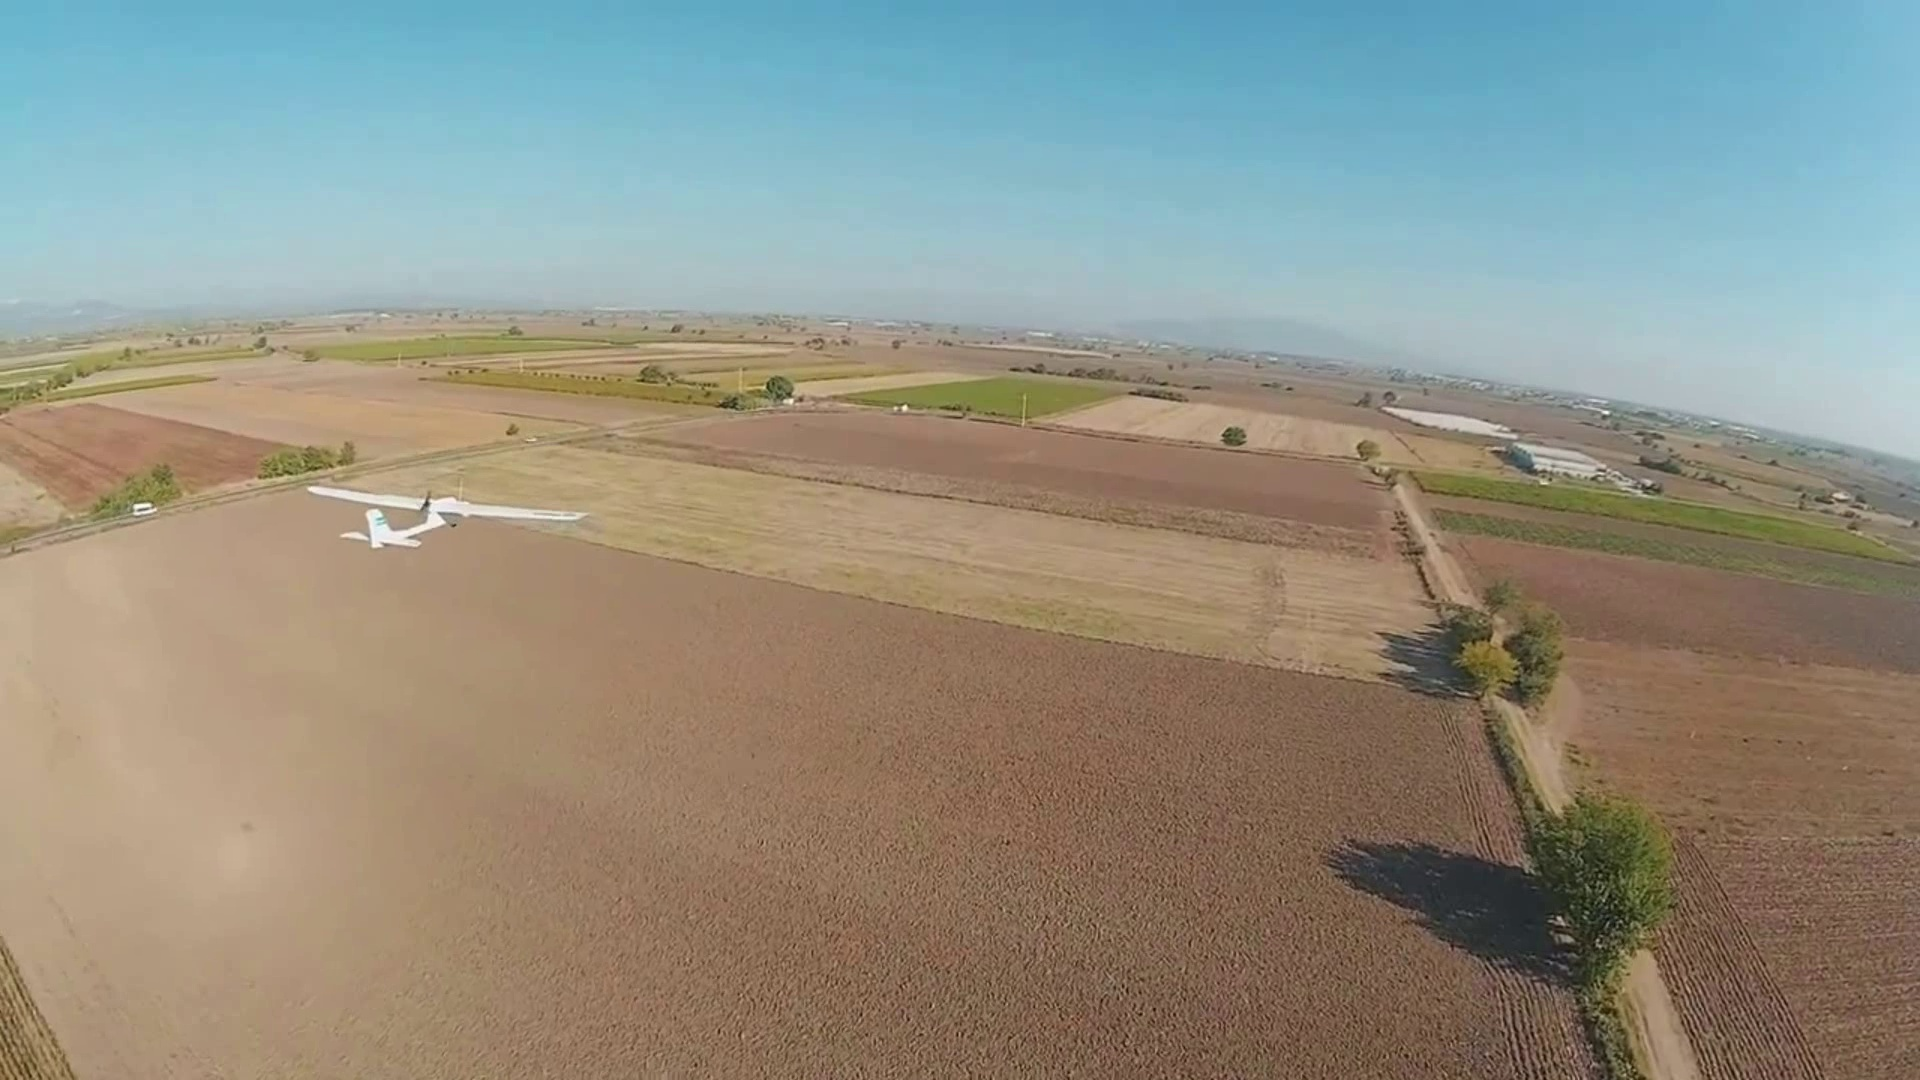airplane: (324, 491, 593, 554), (339, 489, 470, 549)
